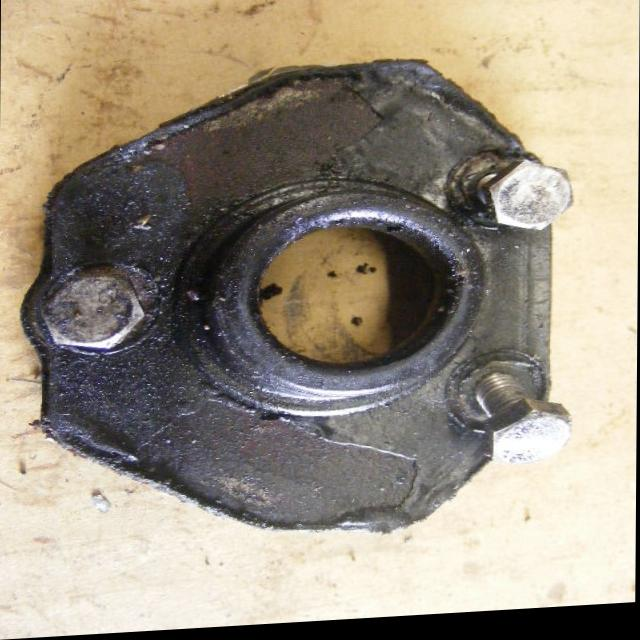Regular bolt: (46, 275, 147, 354), (490, 166, 577, 240), (483, 404, 574, 474)
